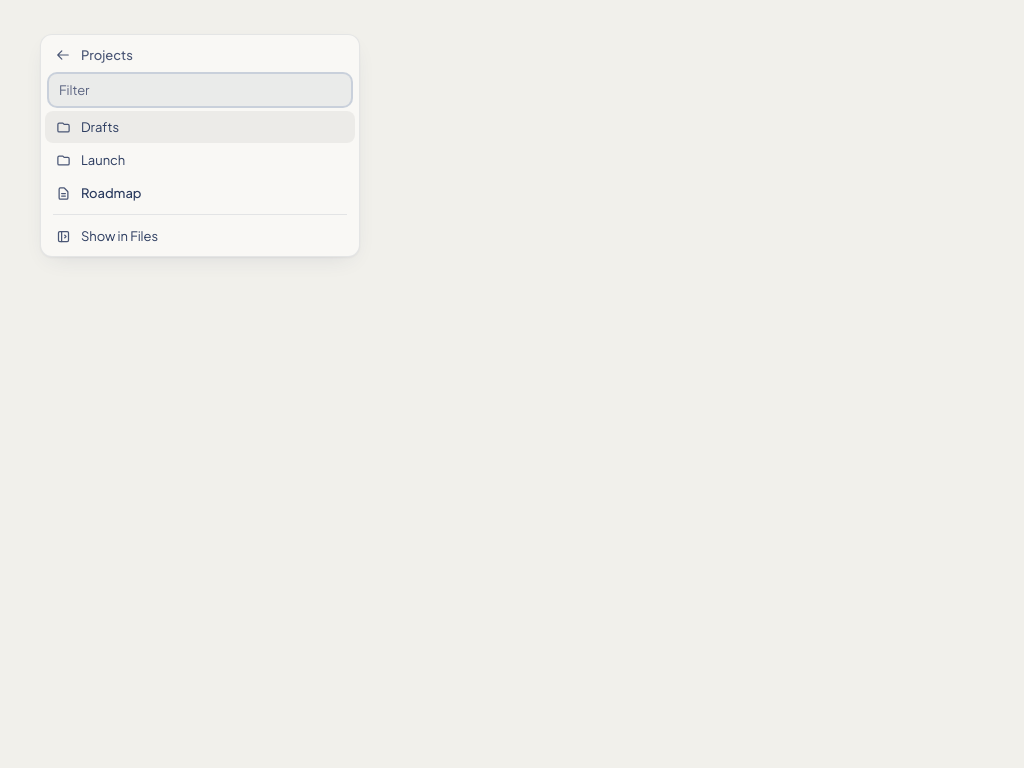
Test: FolderPopover › only says there are no matches without New File
Type "zzz" into the field named "Filter this folder". click: (200, 90)
box: top-left (49, 74), bottom-right (351, 106)
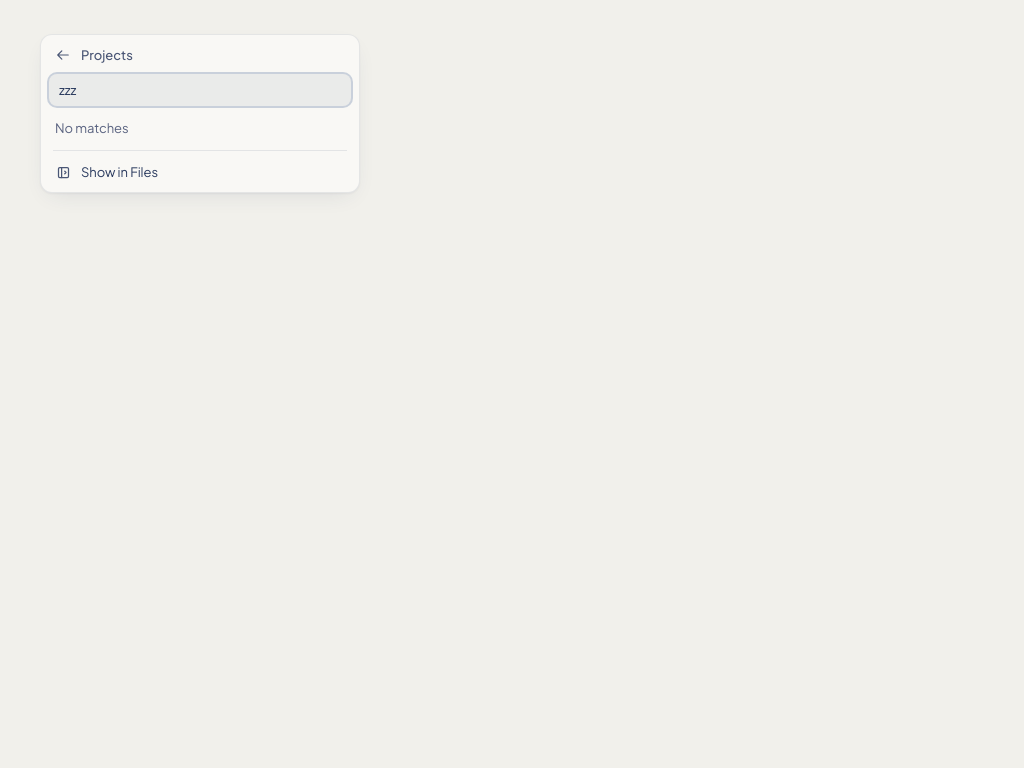
Expected: the text "No matches" is shown, top-left (55, 120), bottom-right (129, 136)
Expected: the option is gone
